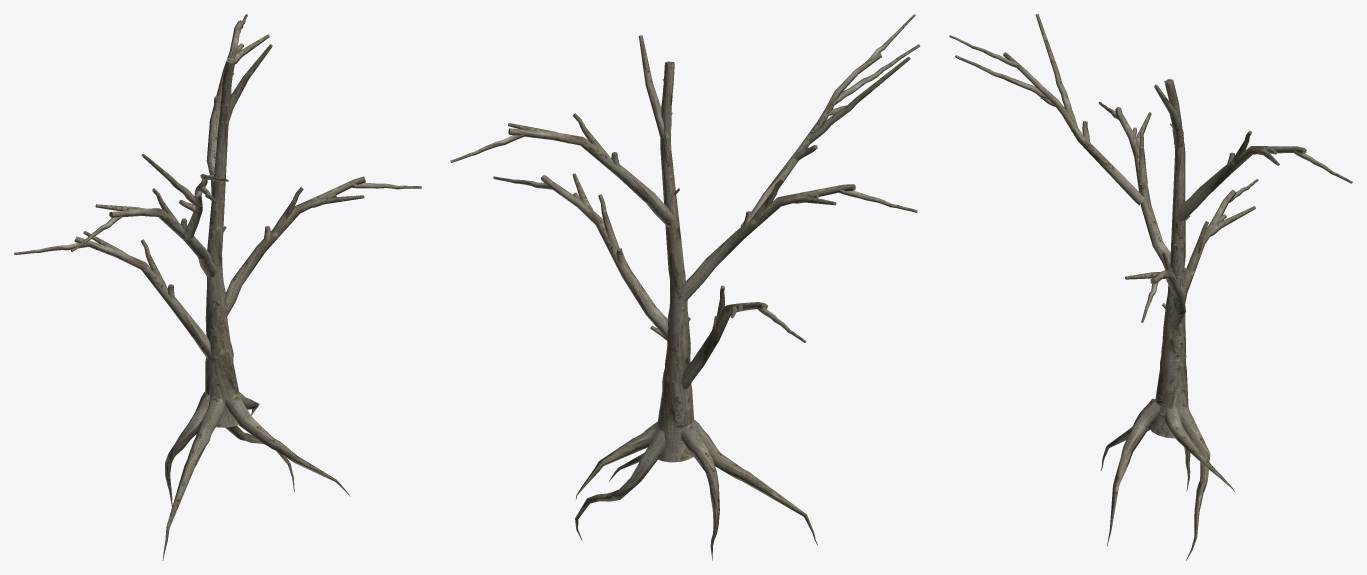
The model's file is DeadTree21_LOD.fbx.
3 renders of one model, left to right at view 1: azimuth 30°, elevation 25°; view 2: azimuth 150°, elevation 25°; view 3: azimuth 270°, elevation 25°, orthographic. The views are drawn at different scales.
Visible parts, largest first — view 1: DeadTree21; view 2: DeadTree21; view 3: DeadTree21.
Part boxes in pixels (box(x1,y1,x2,y2)): DeadTree21: box(14, 14, 421, 560); DeadTree21: box(450, 14, 920, 560); DeadTree21: box(949, 14, 1352, 560).
Bounding box in the file's own units: 918 × 1104 × 883.
Materials: 2 (2 with a texture image).
